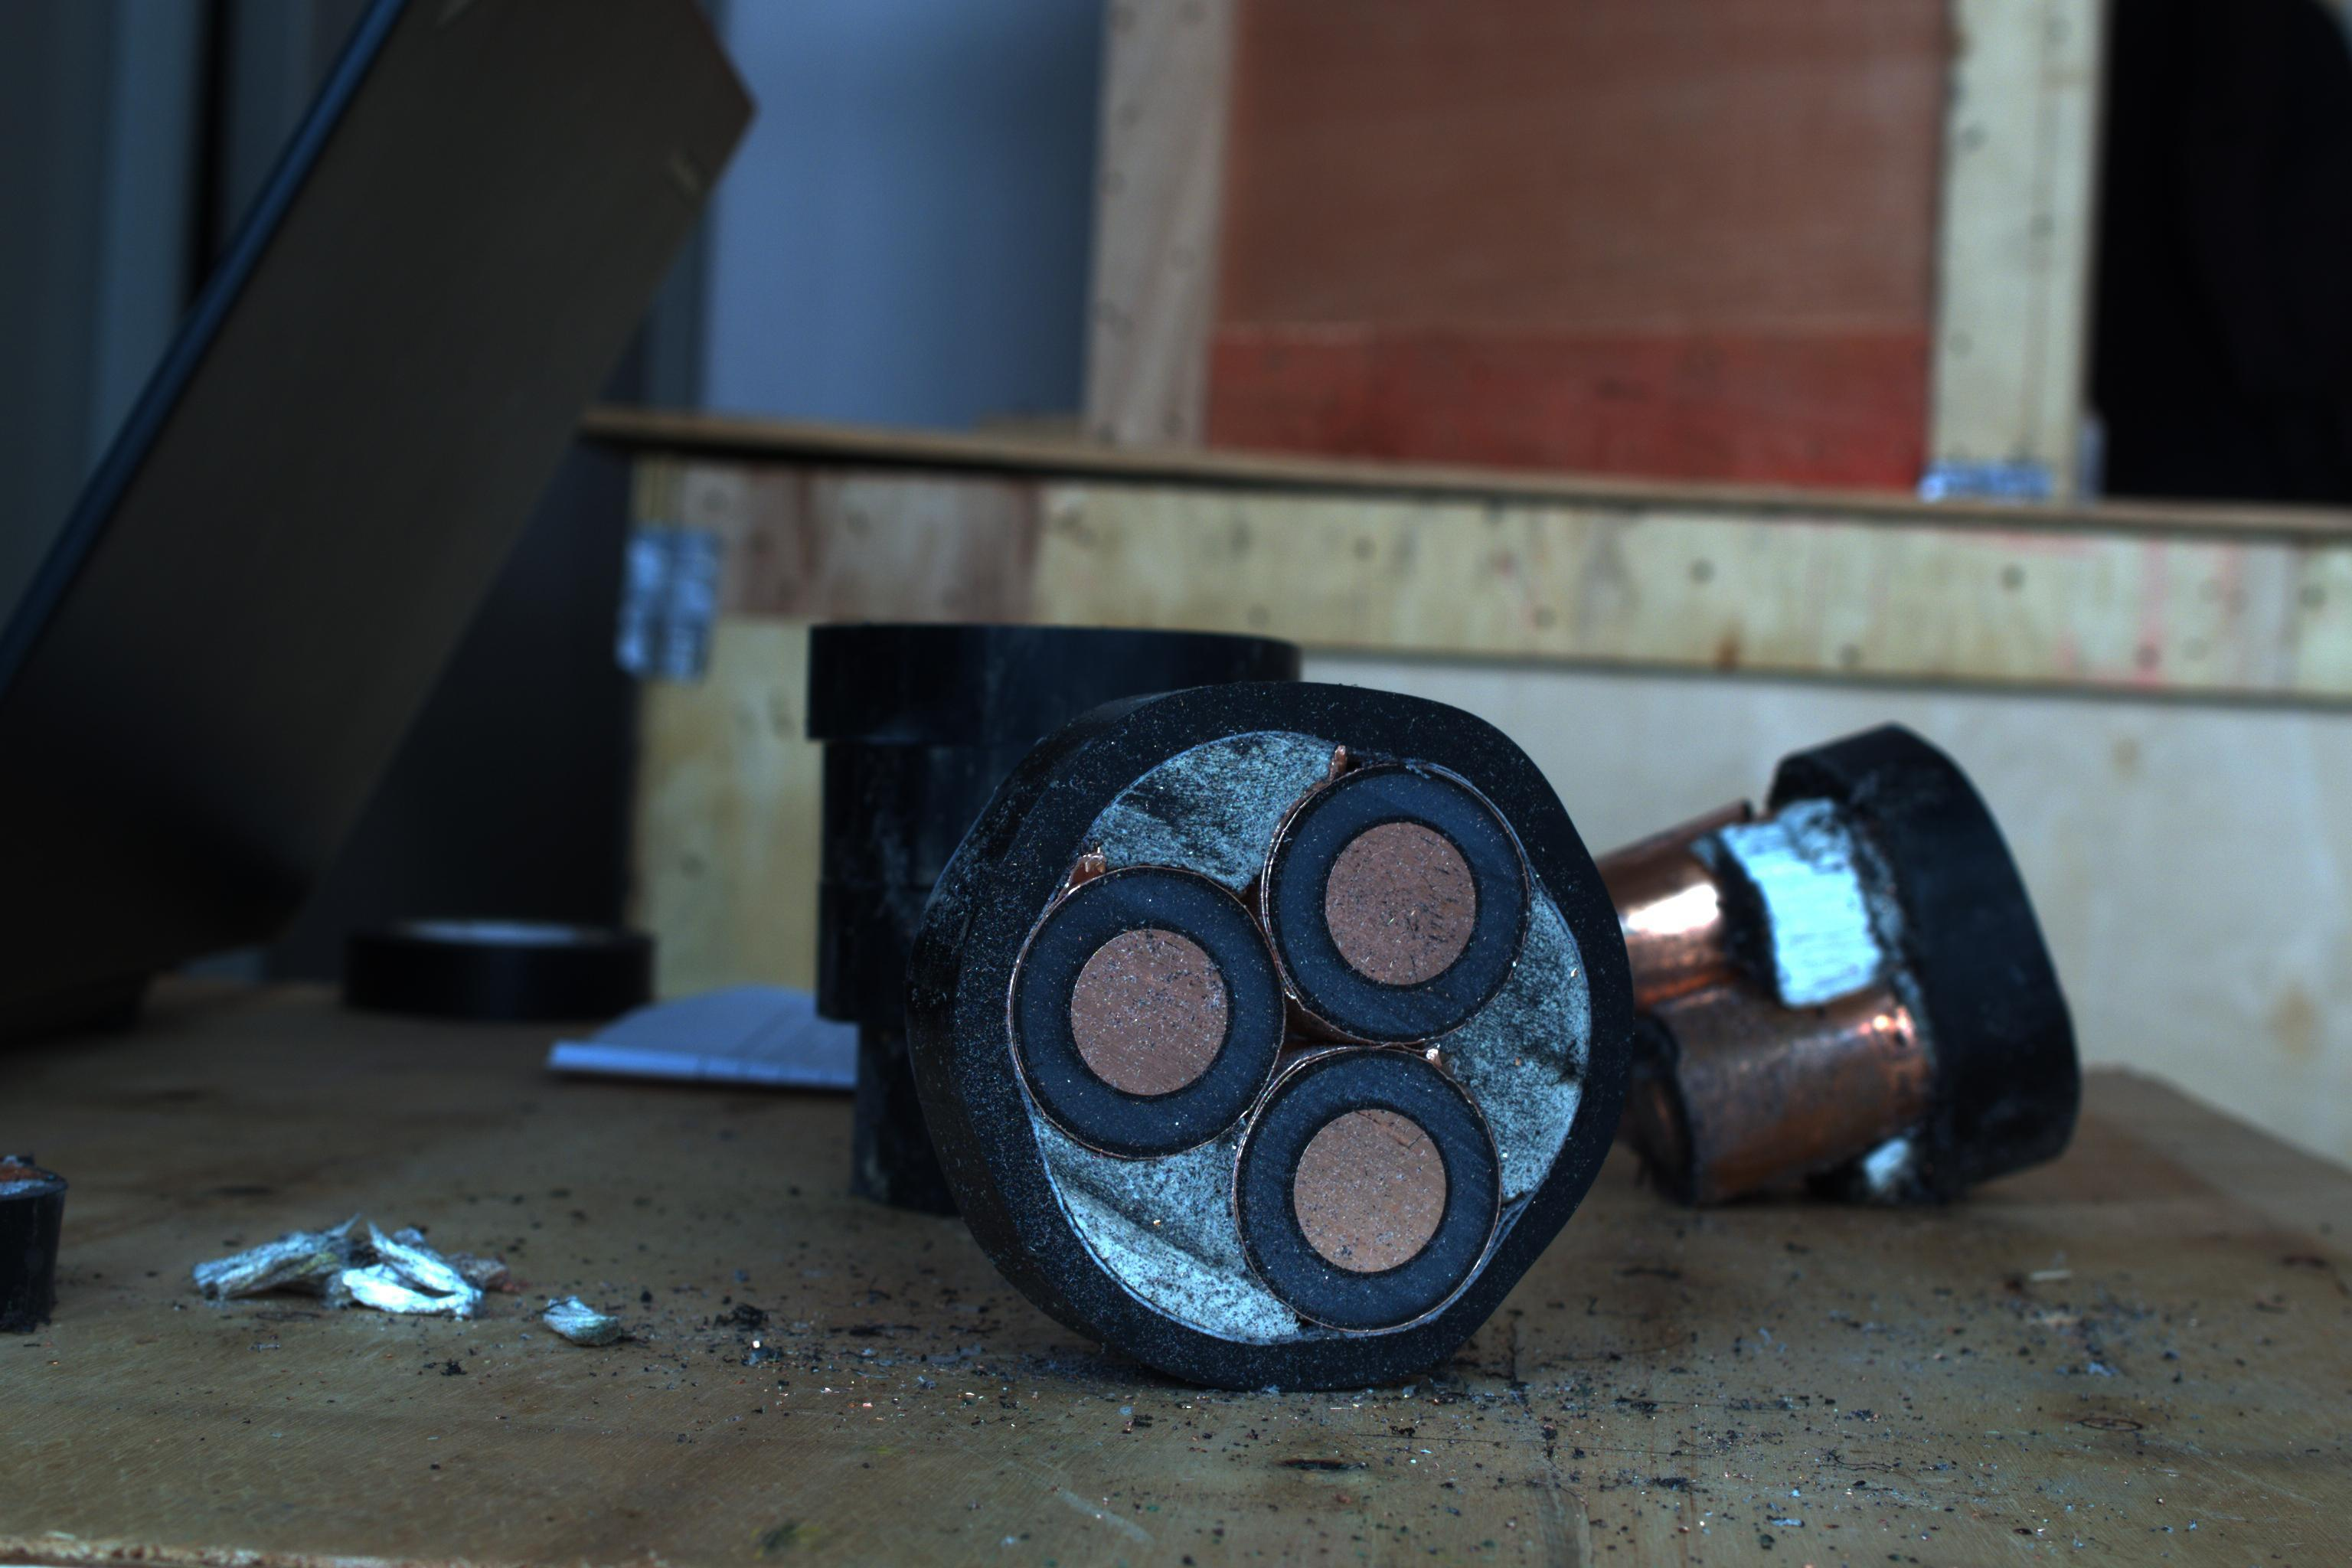ZA_YJV_8.7_10kV_3x240: (962, 688, 1627, 1356)
